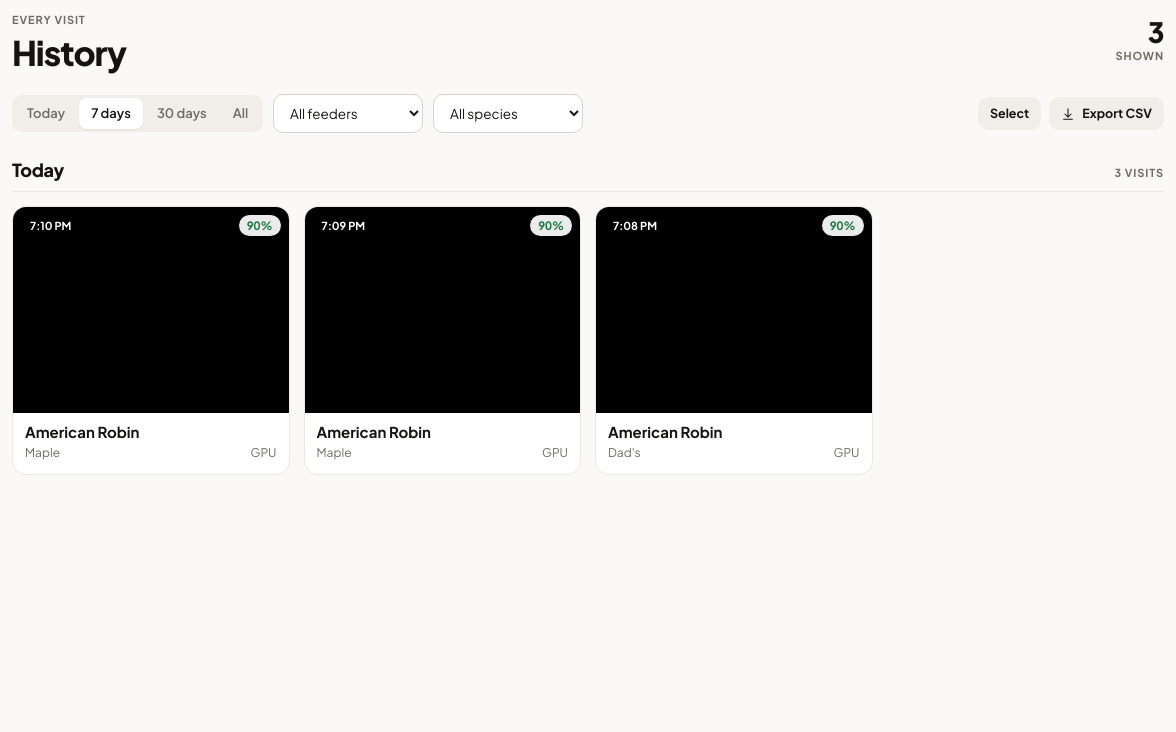
Test case: History select mode › shows the server's refusal and keeps the selection
Click the button "Select". click: (1010, 114)
box: 978,97 -> 1041,130
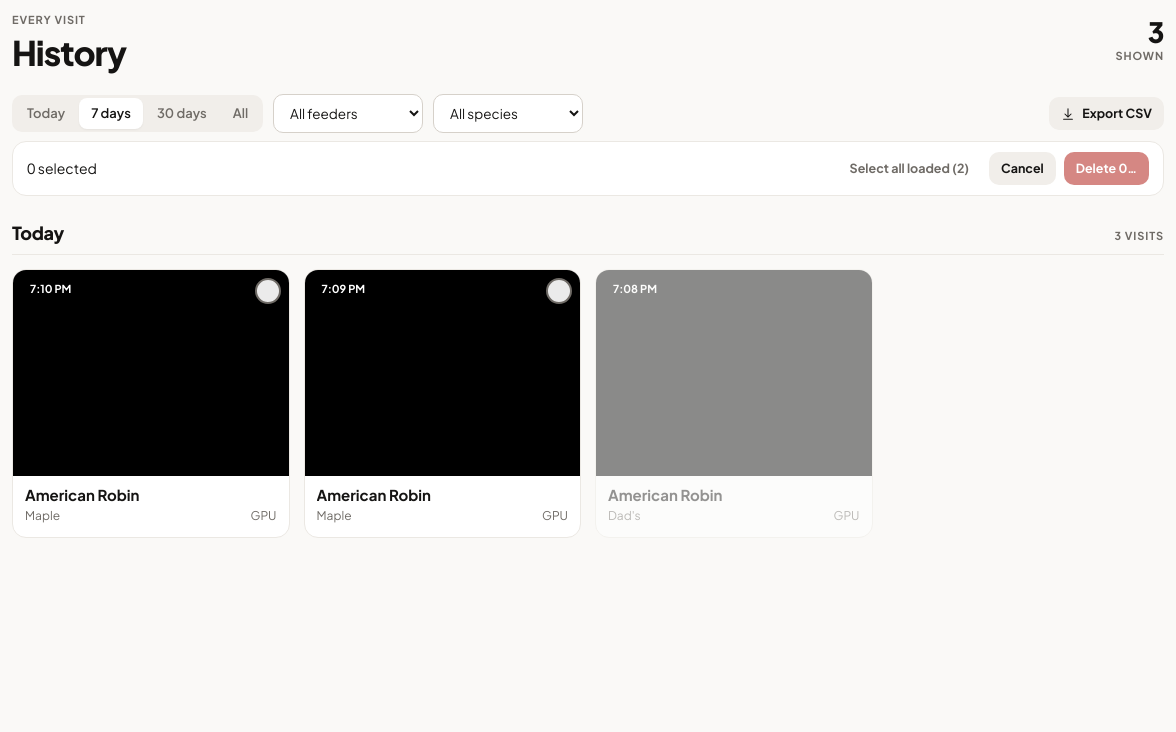
Click the button "7:10 PM American Robin Maple GPU". click: (151, 403)
box: 12,268 -> 290,538
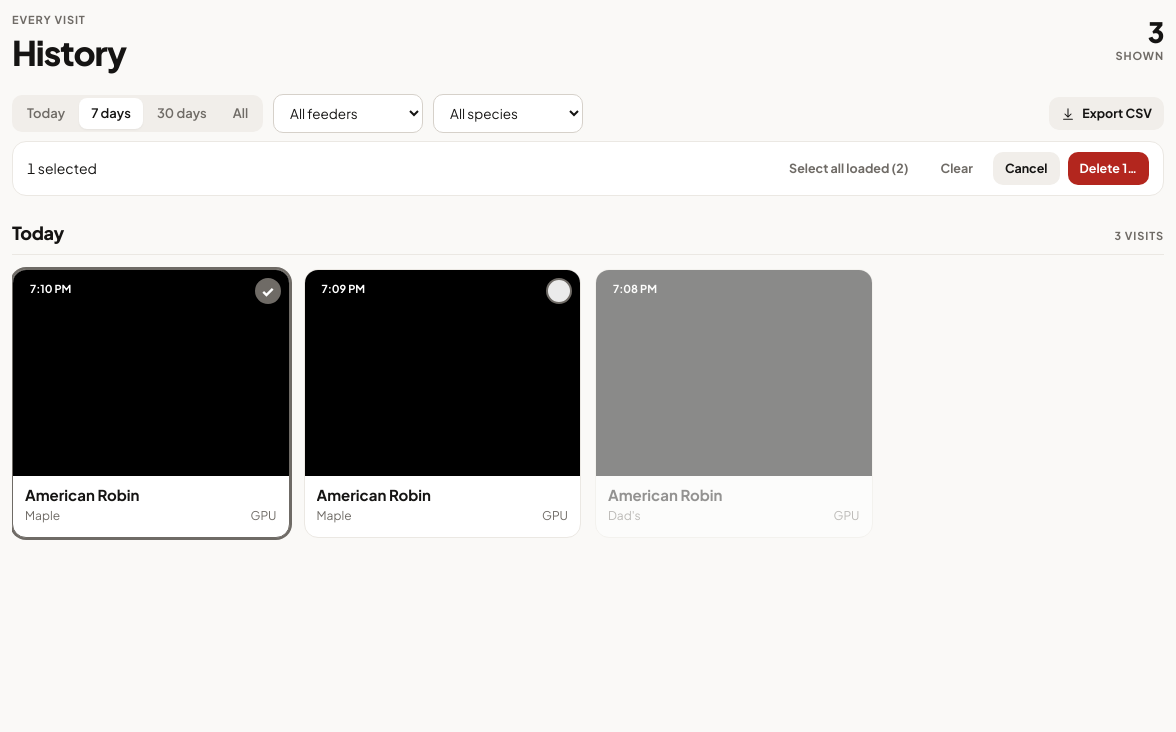
Click the button "Delete 1…". click: (1108, 169)
box: 1068,152 -> 1149,185
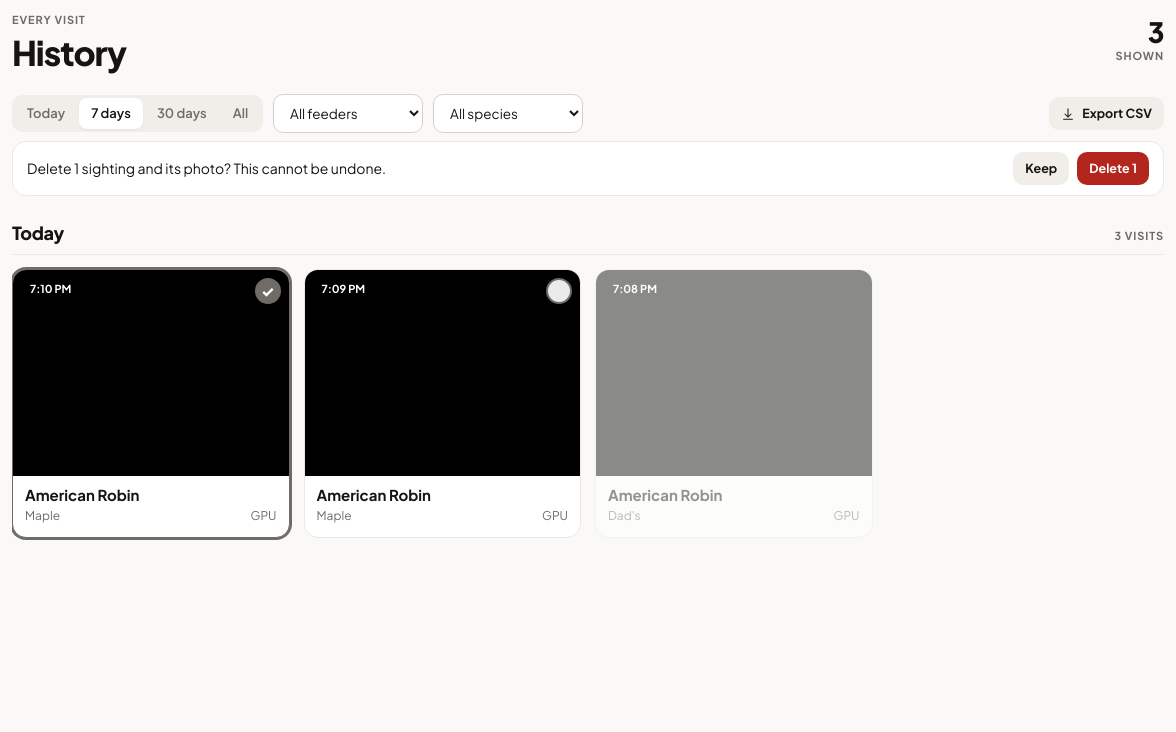
Click the button "Delete 1". click: (1113, 169)
box: 1077,152 -> 1149,185
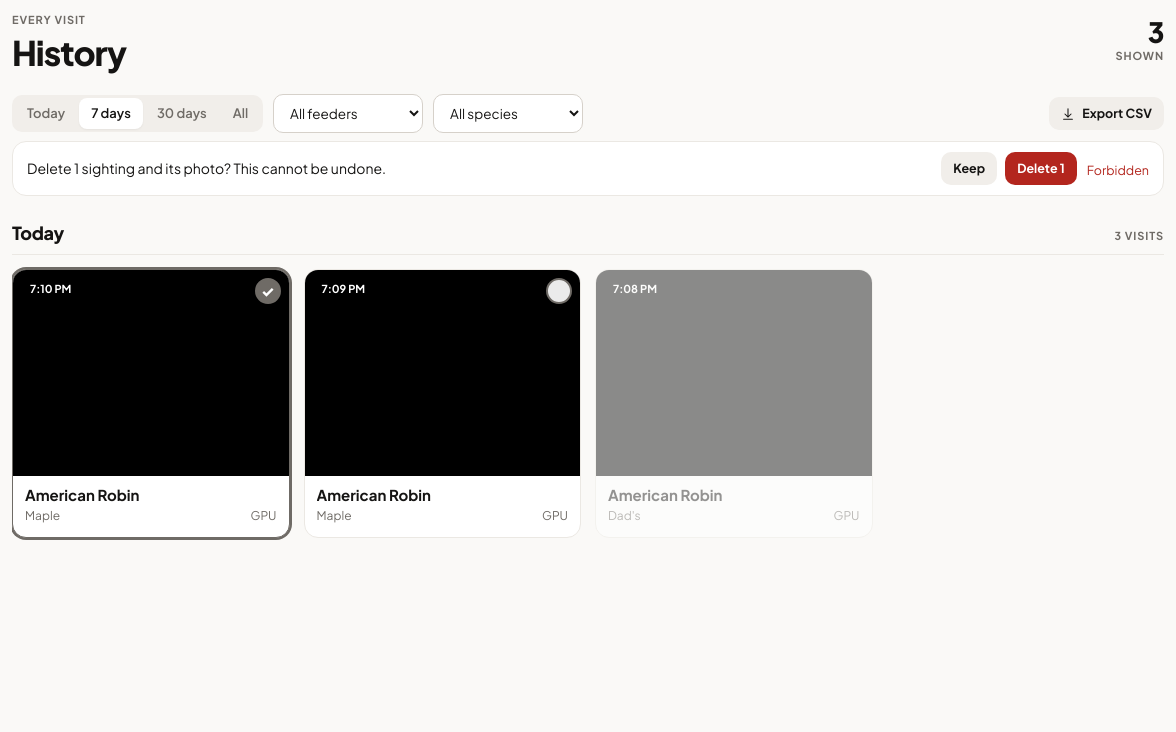
Result: the message reads "Forbidden" at 1087,162 -> 1149,178
